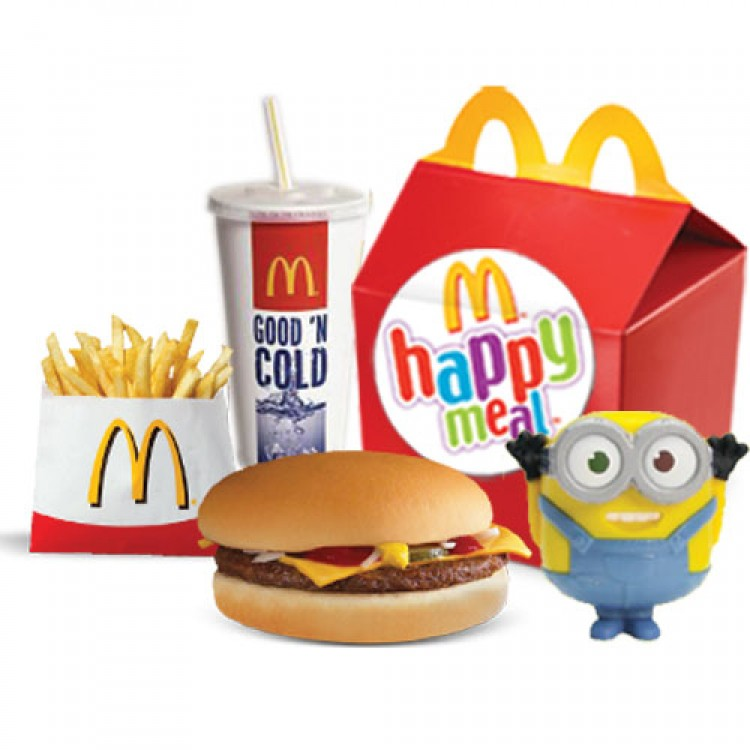mcdonalds: (80, 411, 198, 517), (438, 256, 530, 332), (260, 248, 322, 304)
